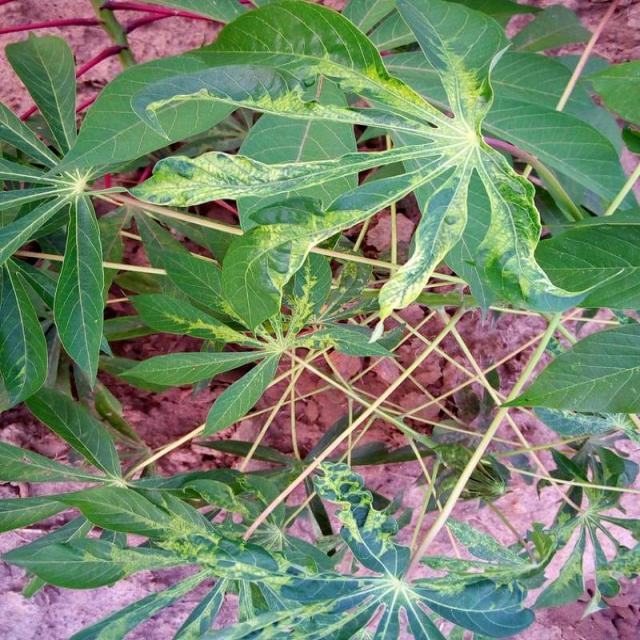Mosaico: (225, 24, 593, 293), (286, 462, 565, 640), (161, 259, 440, 436), (104, 481, 400, 640)
